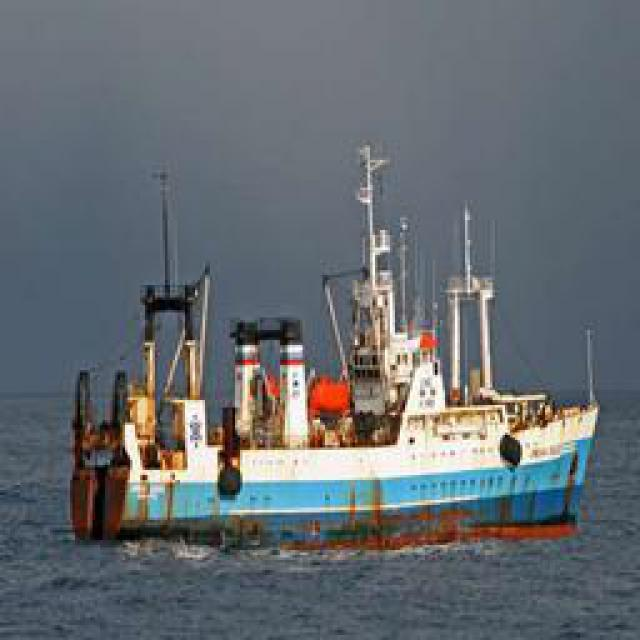Ship: (59, 120, 589, 555)
